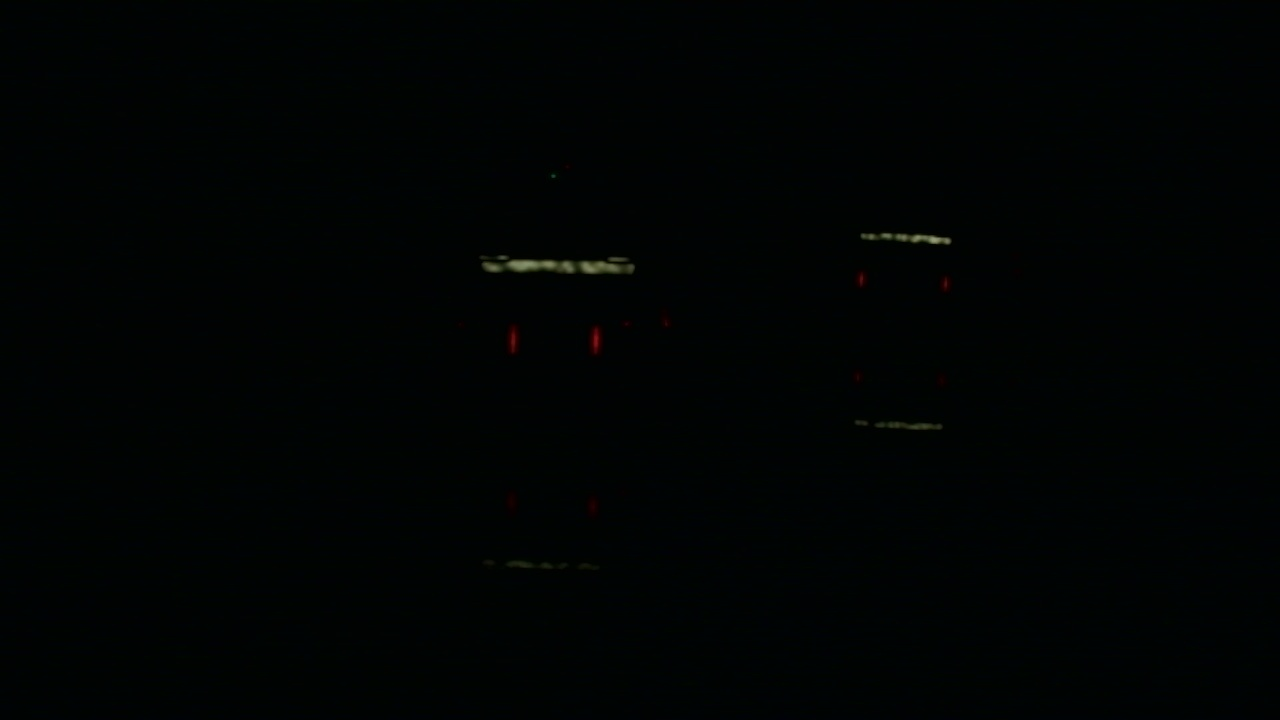lamp: (589, 327, 601, 351), (851, 269, 860, 293), (509, 326, 518, 349), (947, 267, 951, 292)
pair1: (511, 327, 598, 351)
pair2: (855, 270, 950, 291)
